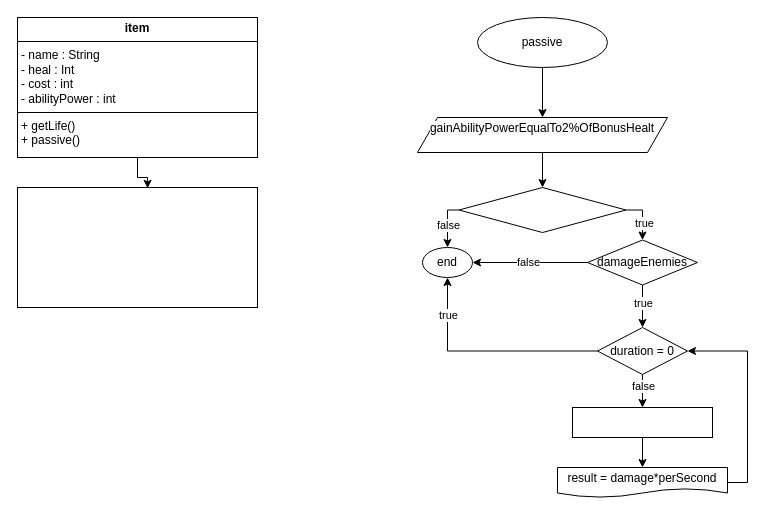
The diagram is 773 pixels wide and 515 high, and some of its shapes have lost their labels. Each missing label, with the centre of its shape:
damage * perSecond: (x=642, y=422)
demonic embrace + getLife() + getAbilityPower() + passive(): (x=137, y=247)
¿doesHaveExtraLife?: (x=542, y=209)
